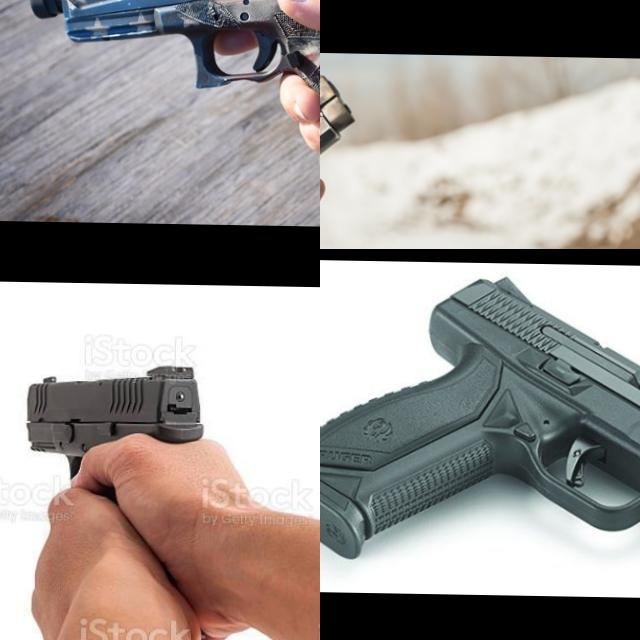handgun: (320, 270, 640, 582), (24, 0, 320, 218), (19, 359, 212, 483), (320, 68, 440, 249)
